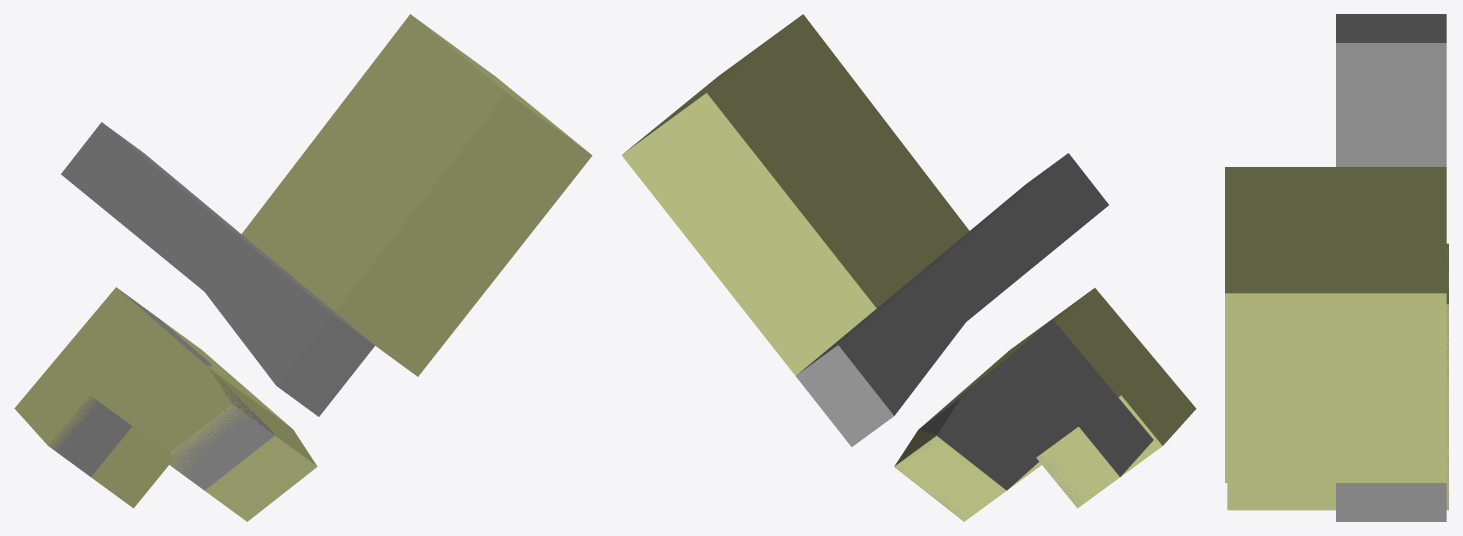
The picture shows the model from 3 angles, left to right: view 1: azimuth 30°, elevation 25°; view 2: azimuth 150°, elevation 25°; view 3: azimuth 270°, elevation 25°; orthographic projection. The views are drawn at different scales.
Visible parts, largest first — view 1: 0_1_1_3_3_1_3_0_1_0; view 2: 0_1_1_3_3_1_3_0_1_0; view 3: 0_1_1_3_3_1_3_0_1_0.
Part boxes in pixels (<box>): 0_1_1_3_3_1_3_0_1_0: <box>14,14,592,521</box>; 0_1_1_3_3_1_3_0_1_0: <box>621,14,1196,521</box>; 0_1_1_3_3_1_3_0_1_0: <box>1225,14,1448,521</box>.
Size of the model in its own units: 19.94 by 14.94 by 6.06.
